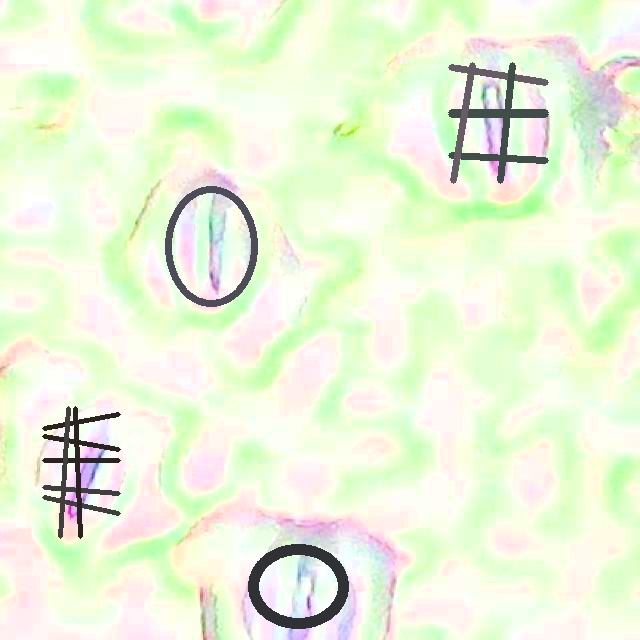open: (448, 62, 548, 183), (165, 185, 256, 307), (43, 407, 120, 538), (249, 543, 348, 629)
